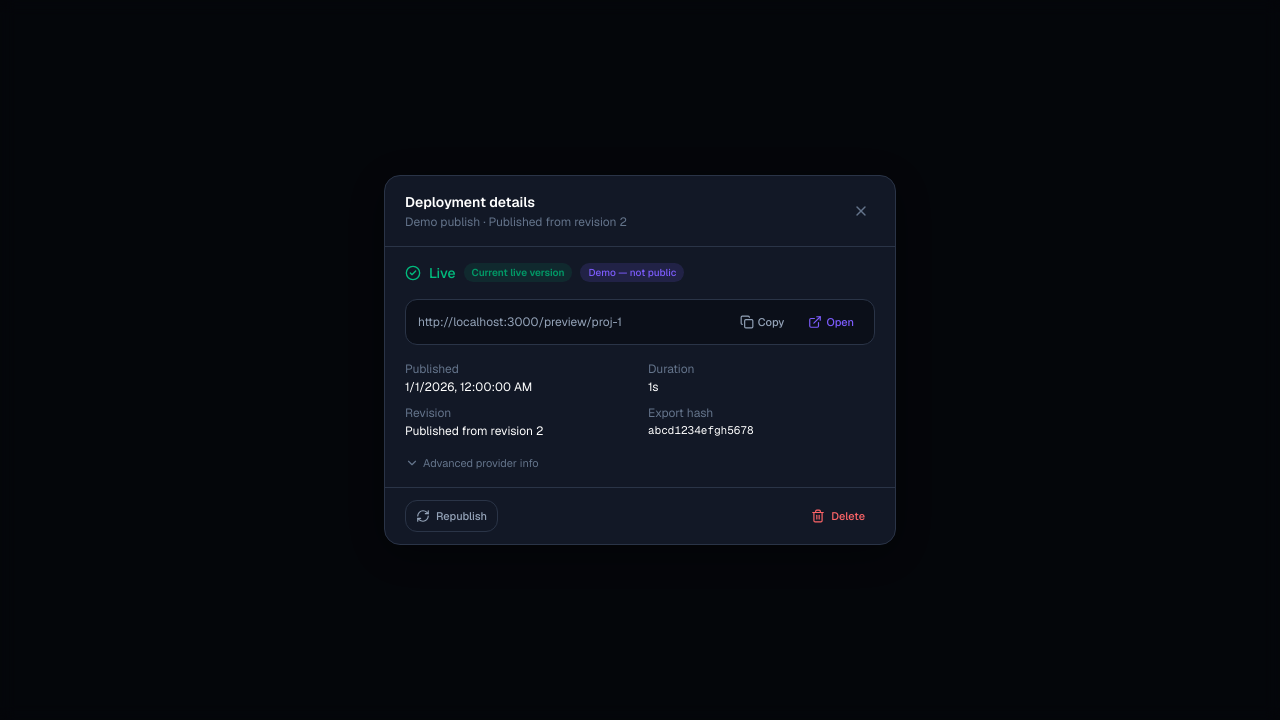
Scenario: DeploymentDetailsDialog — actions › confirms before deleting the deployment
Click the button with test id "details-delete": [838, 516] box [801,500,875,532]
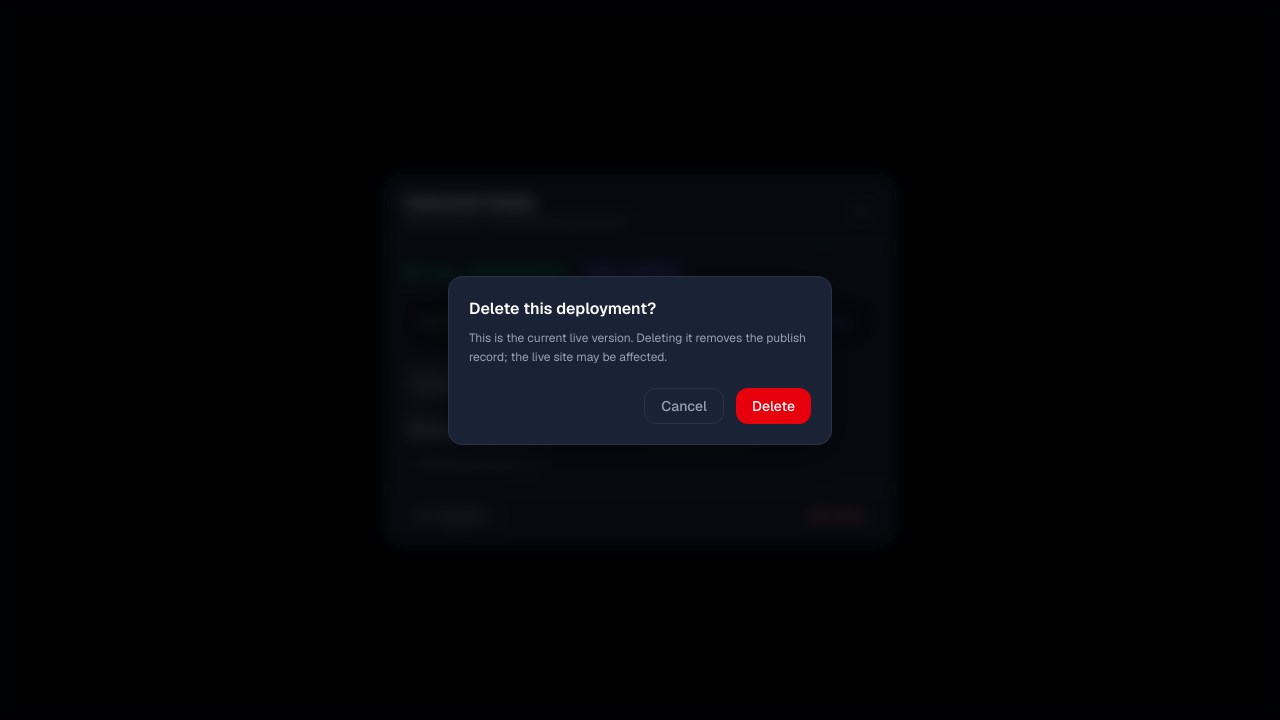
Expected: the dialog "Delete this deployment" is shown
